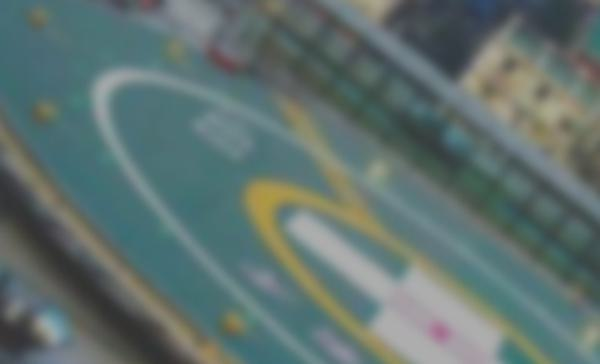Apron: (241, 176, 559, 364)
